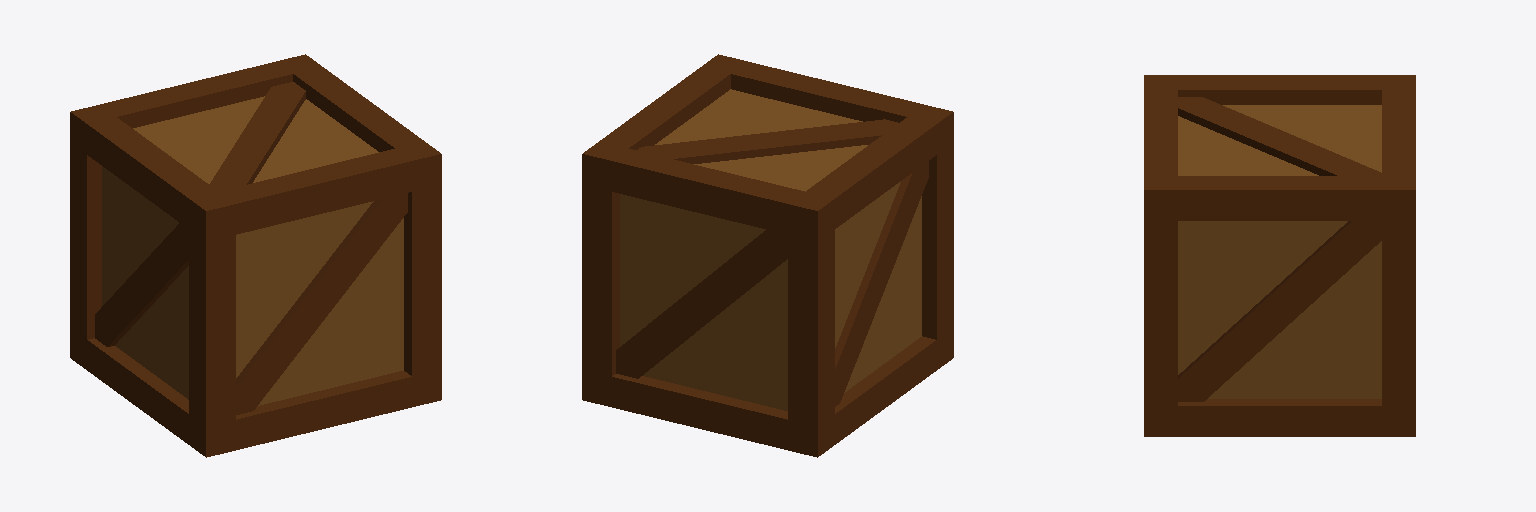
File: Crate1.obj
The picture shows the model from 3 angles: view 1: azimuth 30°, elevation 25°; view 2: azimuth 150°, elevation 25°; view 3: azimuth 270°, elevation 25°; orthographic projection.
Parts seen in each view (by area): view 1: Mesh1 Model; view 2: Mesh1 Model; view 3: Mesh1 Model.
Boxes of the visible parts, <box> form: Mesh1 Model: <box>70,54,441,457</box>; Mesh1 Model: <box>582,54,953,457</box>; Mesh1 Model: <box>1144,75,1415,436</box>.
Bounding box in the file's own units: 0.32 × 0.32 × 0.32.